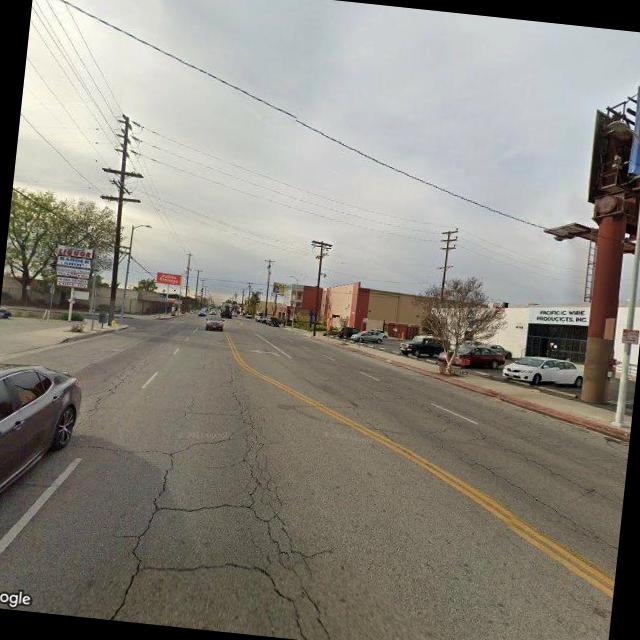crack: (192, 366, 340, 630), (420, 434, 622, 548), (404, 395, 618, 498), (104, 430, 181, 624), (73, 405, 243, 470)
